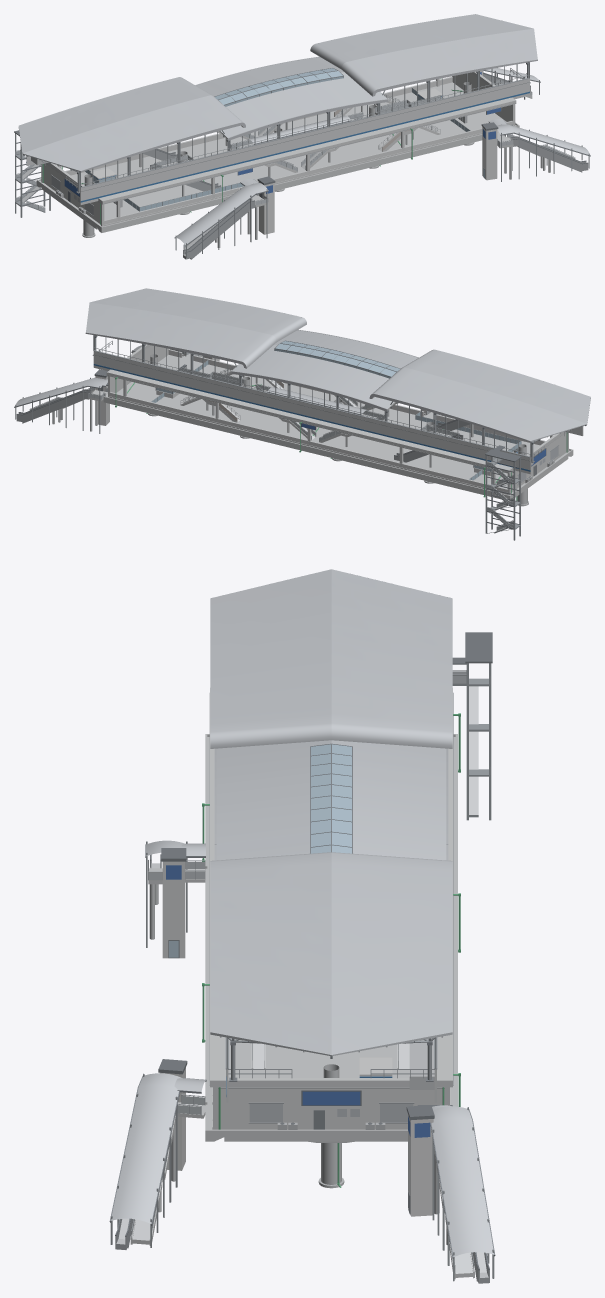
The picture shows the model from 3 angles, top to bottom: view 1: azimuth 30°, elevation 25°; view 2: azimuth 150°, elevation 25°; view 3: azimuth 270°, elevation 25°; orthographic projection. The views are drawn at different scales.
Visible parts, largest first — view 1: BL37, BL37_conc, BL37_access; view 2: BL37, BL37_conc, BL37_access; view 3: BL37, BL37_access, BL37_conc.
Boxes of the visible parts, left/top/right/bottom form: BL37: left=18, top=14, right=537, bottom=205; BL37_conc: left=36, top=71, right=519, bottom=237; BL37_access: left=14, top=67, right=590, bottom=259; BL37: left=85, top=288, right=590, bottom=474; BL37_conc: left=103, top=344, right=573, bottom=506; BL37_access: left=14, top=345, right=567, bottom=540; BL37: left=210, top=569, right=452, bottom=1102; BL37_access: left=109, top=632, right=495, bottom=1283; BL37_conc: left=205, top=688, right=457, bottom=1188.
Bounding box in the file's own units: 141 × 28 × 43.93.
